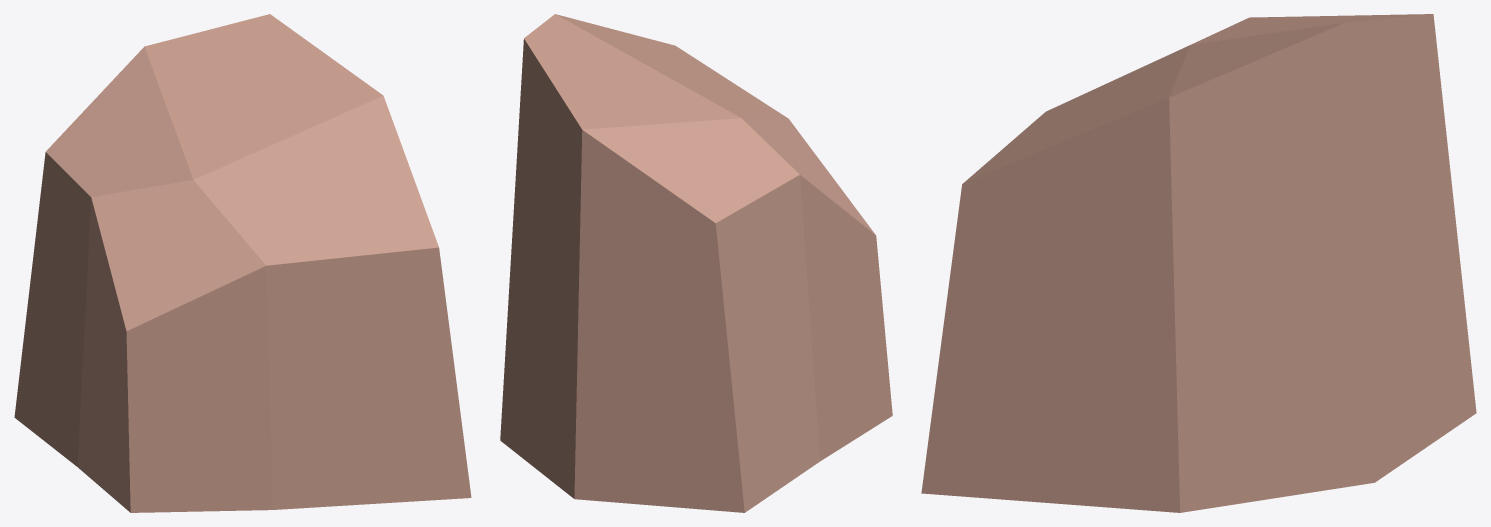
The model's file is Rock_Mesa_Medium_4.fbx.
The picture shows the model from 3 angles, left to right: view 1: azimuth 30°, elevation 25°; view 2: azimuth 150°, elevation 25°; view 3: azimuth 270°, elevation 25°; orthographic projection. The views are drawn at different scales.
Parts seen in each view (by area): view 1: Rock; view 2: Rock; view 3: Rock.
Part boxes in pixels (box(x1,y1,x2,y2)): Rock: box(14, 14, 471, 512); Rock: box(500, 14, 892, 512); Rock: box(921, 14, 1476, 512).
Size of the model in its own units: 54.49 by 62.75 by 69.56.
